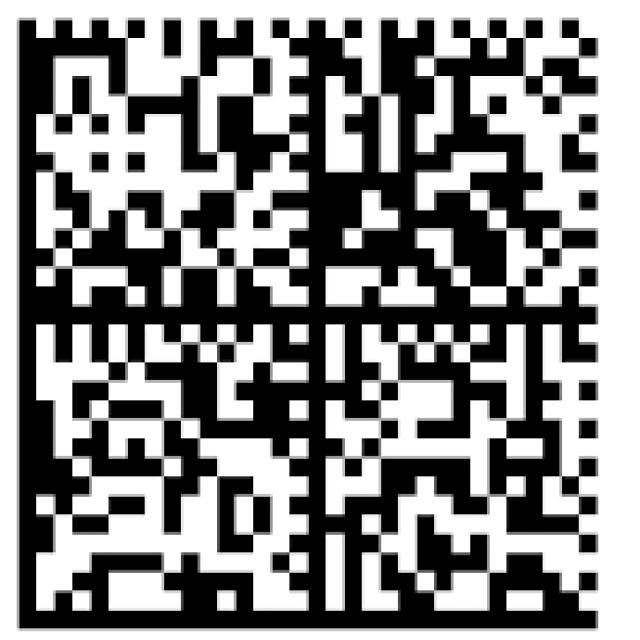datamatrix: (8, 9, 607, 637)
